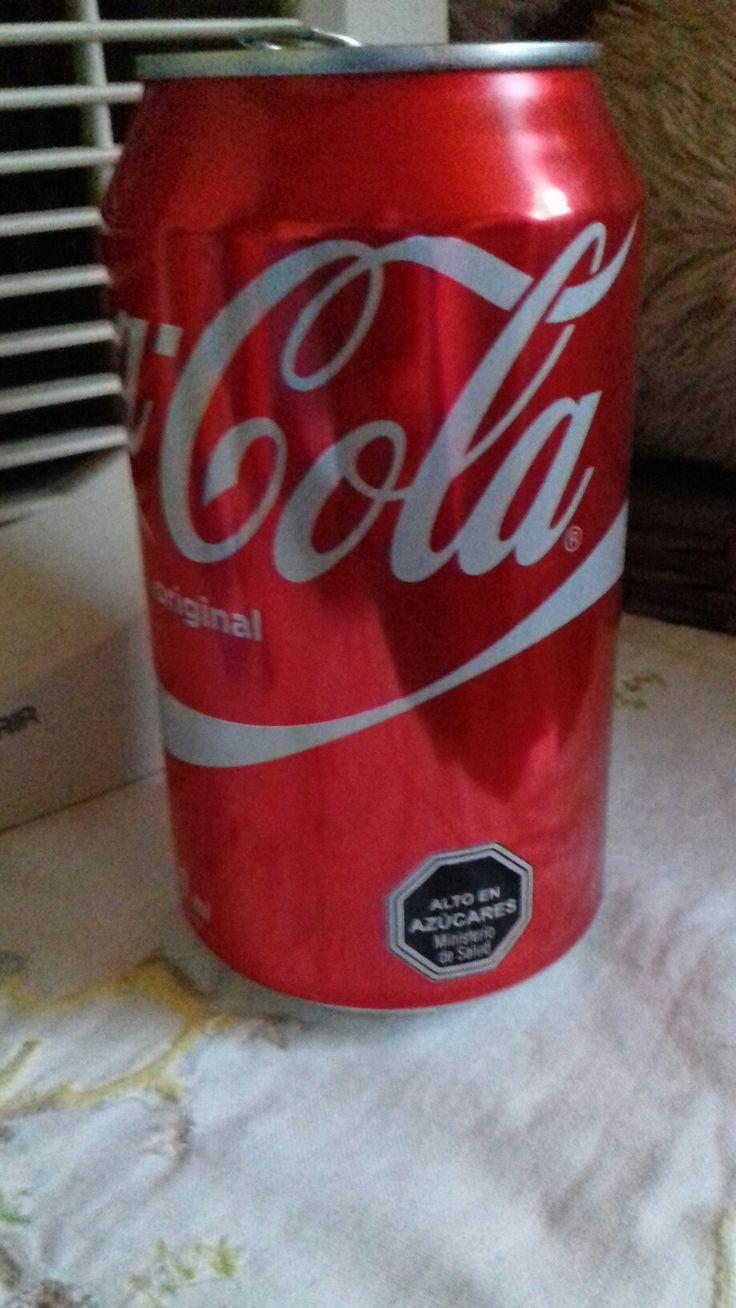metal: (101, 41, 643, 1010)
